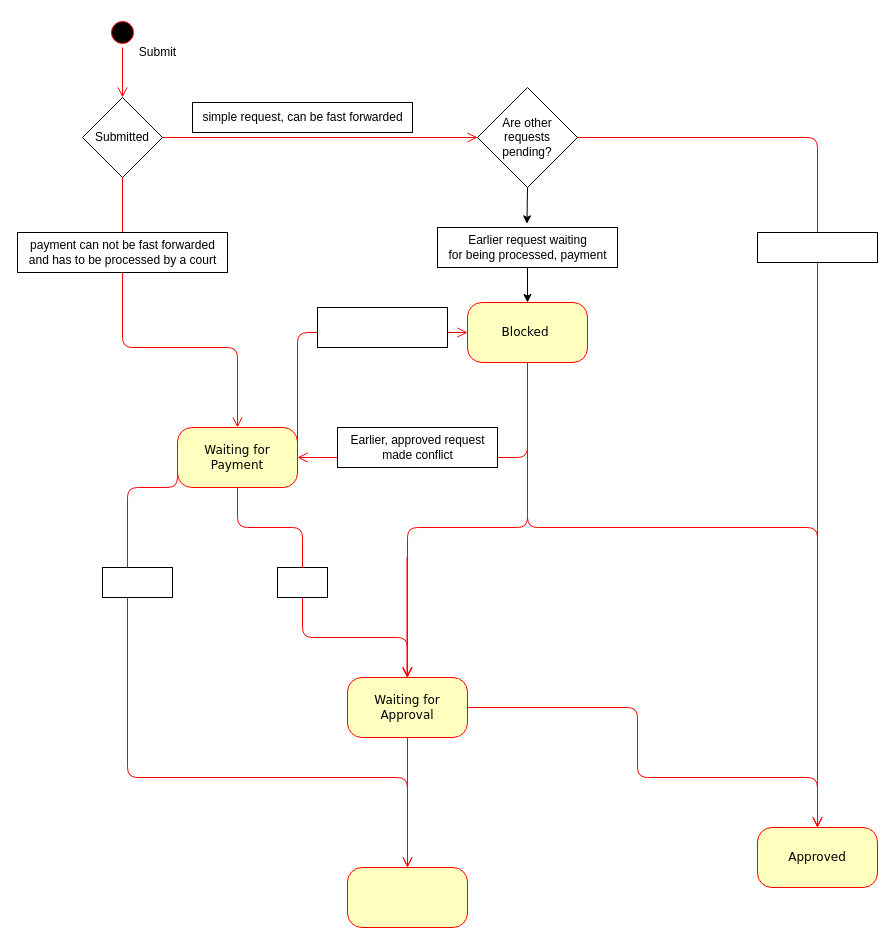
This 895x945 diagram has some shape labels left out. The shapes that lost their labels are listed below. From the top down, each one's centre as x and y in pixels, then its label:
At [817,247]: "No other requests".
At [382,327]: "Earlier request waiting for payment".
At [137,582]: "Timeout".
At [302,582]: "Paid".
At [407,897]: "Rejected".
